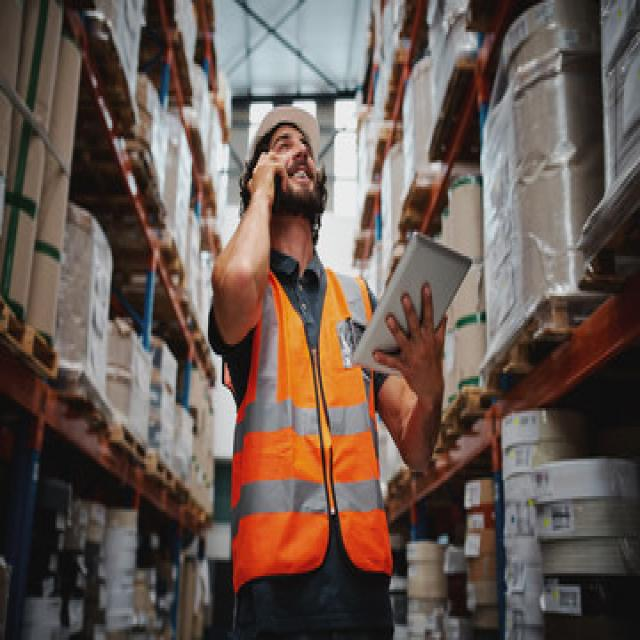Reflective-Jacket: (227, 253, 393, 592)
Safety-Helmet: (250, 99, 328, 156)
